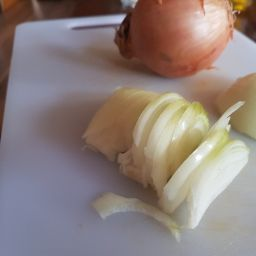Medium chopped onions: (89, 84, 204, 178), (106, 1, 242, 79), (177, 108, 249, 243), (77, 186, 186, 246)
